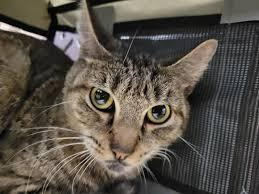Cat: (62, 41, 197, 173)
